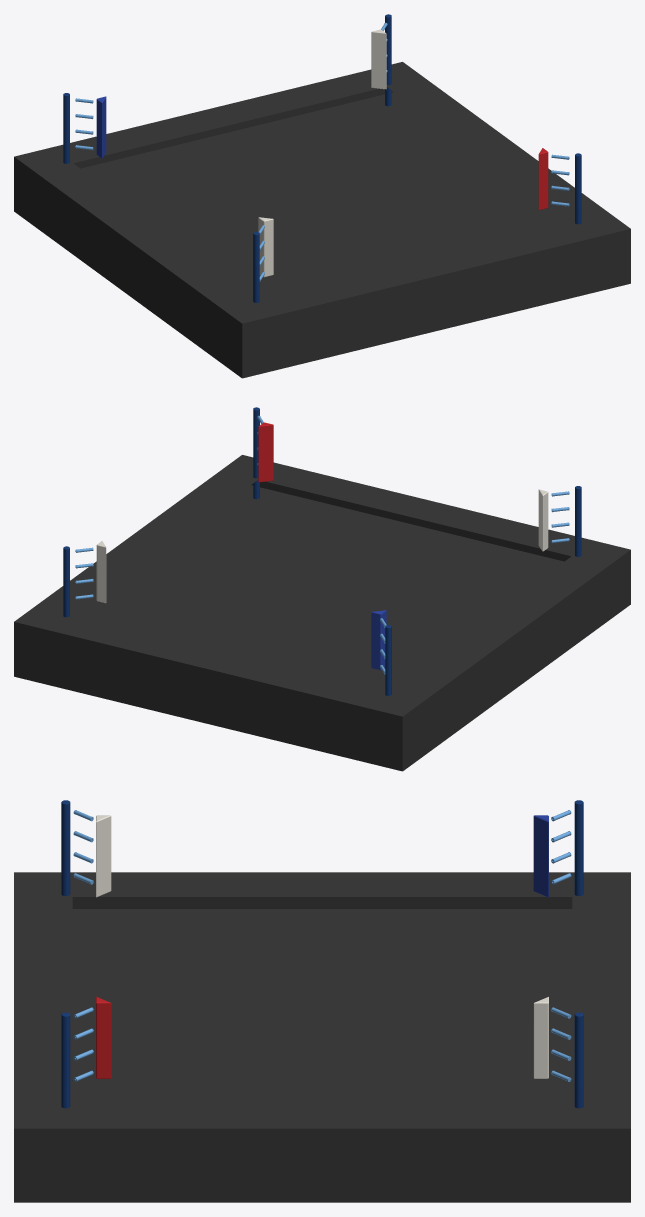
Rendered from ring.glb.
3 views of the same model, one above another, from view 1: azimuth 30°, elevation 25°; view 2: azimuth 150°, elevation 25°; view 3: azimuth 270°, elevation 25° (orthographic). The views are drawn at different scales.
Parts seen in each view (by area): view 1: Object_77, Object_140, Object_219, Object_151, Object_136, Object_385; view 2: Object_77, Object_140, Object_219, Object_385, Object_136, Object_151; view 3: Object_77, Object_140, Object_219, Object_151, Object_136, Object_385.
Boxes of the visible parts, <box> form: Object_77: <box>14,62,630,378</box>; Object_140: <box>63,14,581,302</box>; Object_219: <box>258,29,386,277</box>; Object_151: <box>75,22,569,281</box>; Object_136: <box>96,96,106,158</box>; Object_385: <box>538,148,548,210</box>; Object_77: <box>14,455,630,771</box>; Object_140: <box>63,407,581,695</box>; Object_219: <box>96,489,548,603</box>; Object_385: <box>258,422,273,482</box>; Object_136: <box>371,610,386,670</box>; Object_151: <box>75,415,569,674</box>; Object_77: <box>14,872,630,1202</box>; Object_140: <box>61,800,583,1108</box>; Object_219: <box>96,815,548,1078</box>; Object_151: <box>73,810,571,1081</box>; Object_136: <box>533,815,548,897</box>; Object_385: <box>96,997,111,1078</box>.
Bounding box in the file's own units: 8.42 × 2.55 × 8.56.
7 materials, 2 textured.
